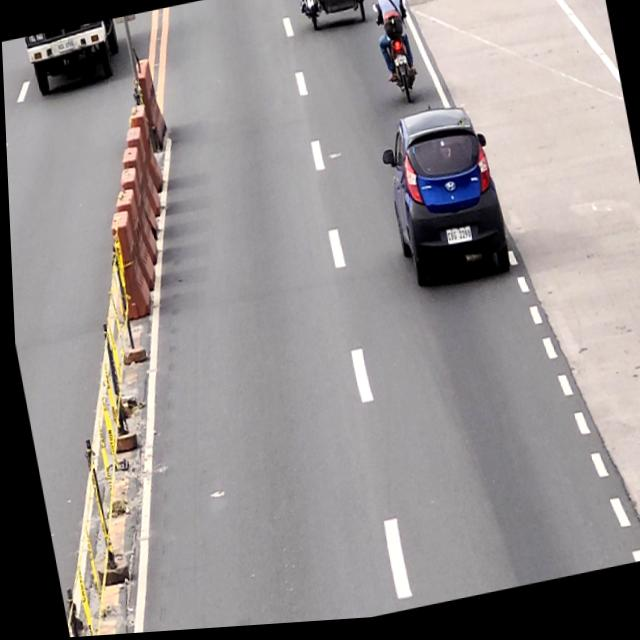Car: (372, 104, 513, 302)
License-Plate: (442, 231, 470, 252), (393, 59, 406, 72)
Motorcycle: (371, 0, 425, 113)
Tricycle: (294, 0, 368, 41)
